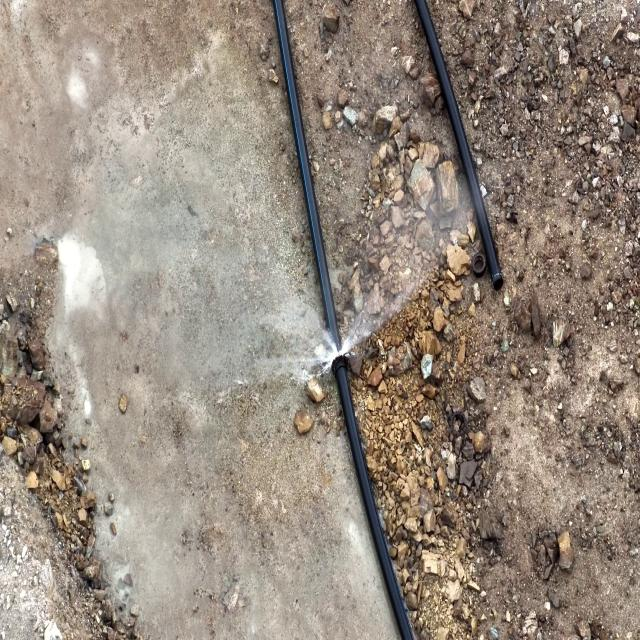leak: (275, 243, 464, 385)
